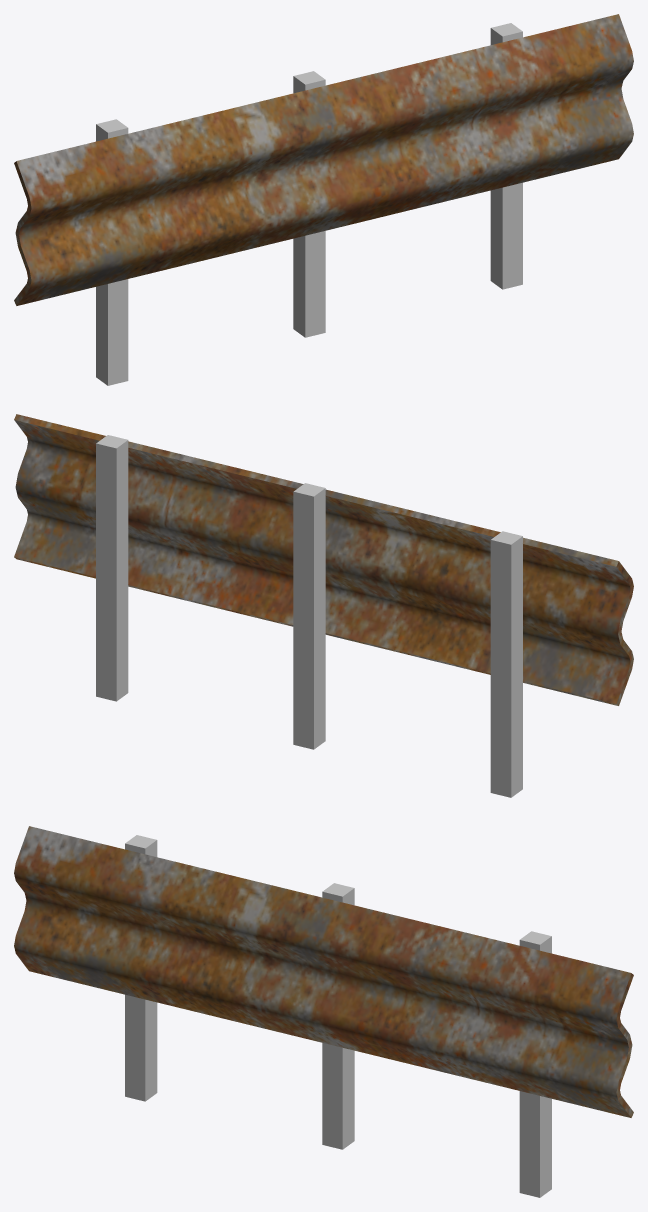
Rendered from Road Block Metal.fbx.
3 views of the same model, one above another, from view 1: azimuth 30°, elevation 25°; view 2: azimuth 150°, elevation 25°; view 3: azimuth 330°, elevation 25° (orthographic).
Visible parts, largest first — view 1: Plane; view 2: Plane; view 3: Plane.
Part boxes in pixels (bbox=[...]): Plane: bbox=[14, 14, 633, 385]; Plane: bbox=[14, 414, 633, 797]; Plane: bbox=[14, 826, 633, 1197].
Bounding box in the file's own units: 200 × 80.31 × 16.72.
